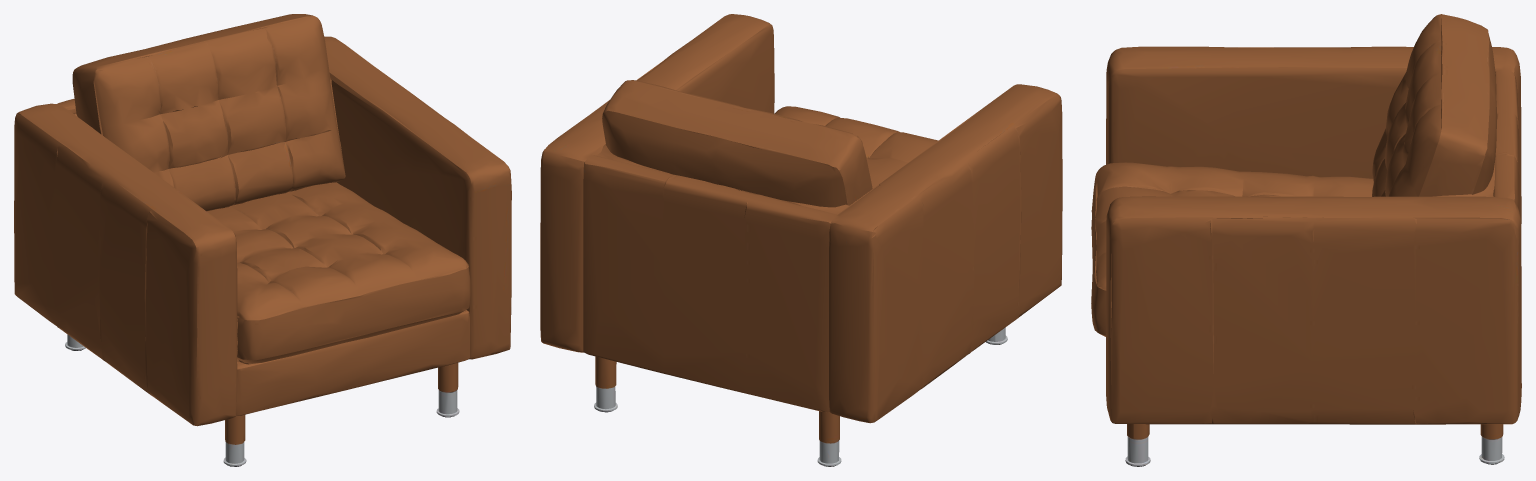
3 views of the same model, side by side, from view 1: azimuth 30°, elevation 25°; view 2: azimuth 150°, elevation 25°; view 3: azimuth 270°, elevation 25° (orthographic). The views are drawn at different scales.
Parts seen in each view (by area): view 1: ProcessedMeshNode; view 2: ProcessedMeshNode; view 3: ProcessedMeshNode.
Part boxes in pixels (x1=…): ProcessedMeshNode: x1=14, y1=14, x2=511, y2=466; ProcessedMeshNode: x1=540, y1=14, x2=1062, y2=466; ProcessedMeshNode: x1=1091, y1=14, x2=1521, y2=466.
Size of the model in its own units: 0.9054 by 0.7908 by 0.9237.
Materials: 1 (1 with a texture image).
